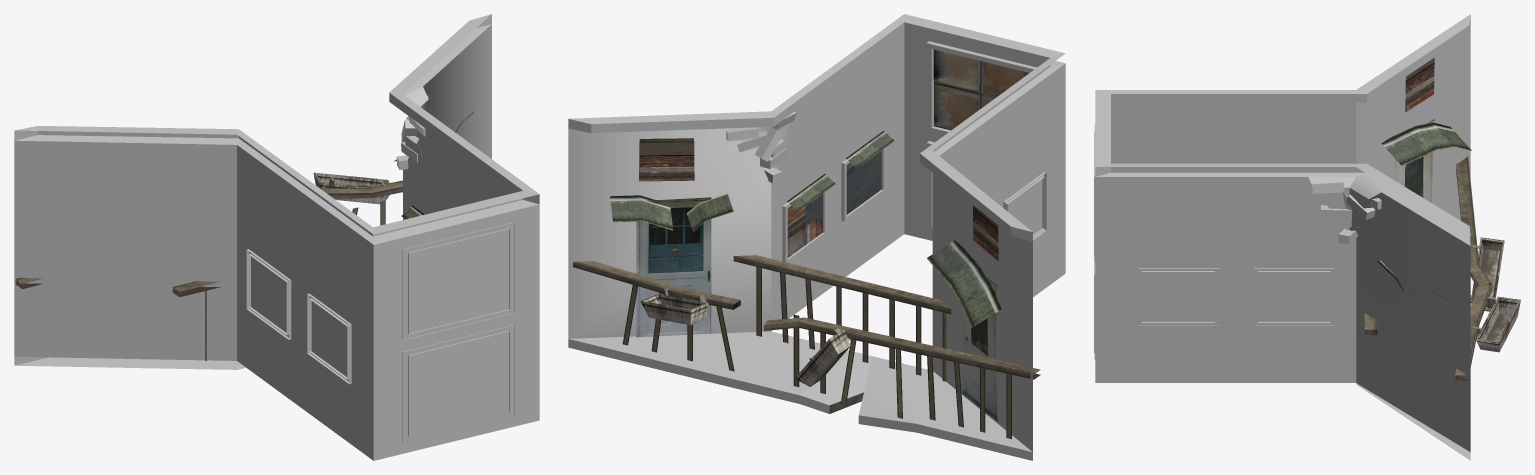
Rendered from Store_front_17_D.fbx.
3 views of the same model, side by side, from view 1: azimuth 30°, elevation 25°; view 2: azimuth 150°, elevation 25°; view 3: azimuth 270°, elevation 25° (orthographic). The views are drawn at different scales.
Visible parts, largest first — view 1: Store_front_17_D; view 2: Store_front_17_D; view 3: Store_front_17_D.
Boxes of the visible parts, box(x1,y1,x2,y2) form: Store_front_17_D: box(14, 14, 539, 460); Store_front_17_D: box(568, 14, 1065, 460); Store_front_17_D: box(1094, 14, 1520, 460).
Bounding box in the file's own units: 708 × 341 × 574.
